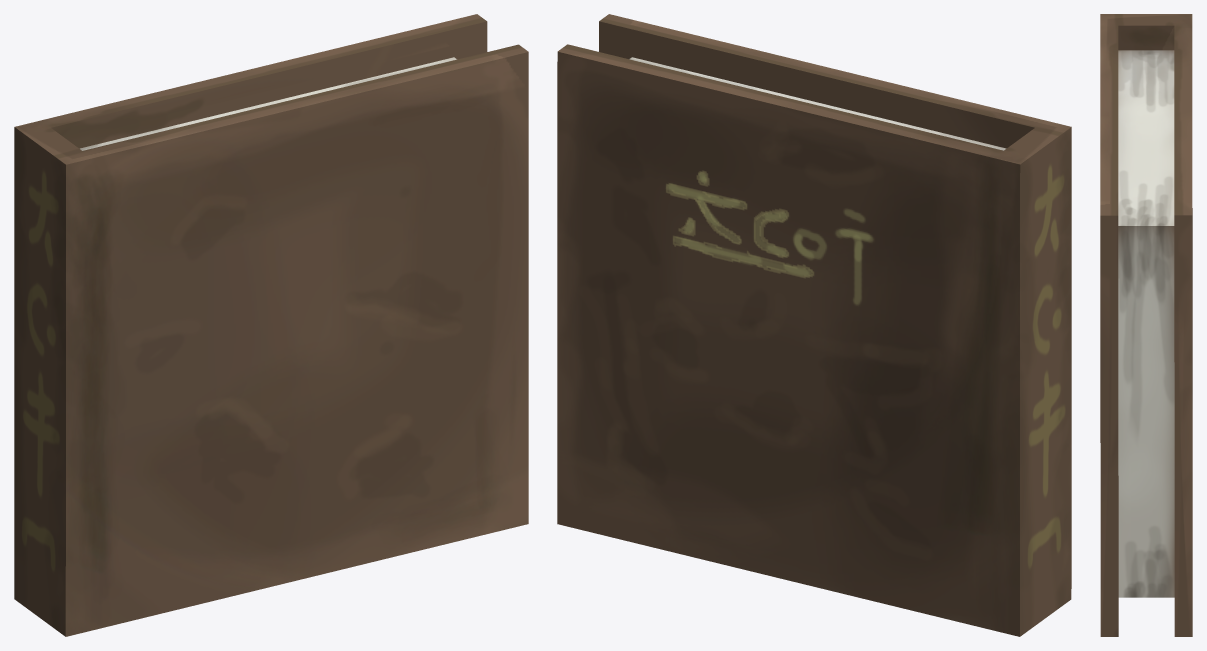
The model's file is Book_textured.FBX.
3 views of the same model, side by side, from view 1: azimuth 30°, elevation 25°; view 2: azimuth 150°, elevation 25°; view 3: azimuth 270°, elevation 25° (orthographic). The views are drawn at different scales.
Parts seen in each view (by area): view 1: Box100; view 2: Box100; view 3: Box100.
Part boxes in pixels (box(x1,y1,x2,y2)): Box100: box(14, 14, 528, 636); Box100: box(557, 14, 1071, 636); Box100: box(1100, 14, 1192, 636).
Size of the model in its own units: 11.67 by 11.38 by 2.26.
Materials: 1 (1 with a texture image).
